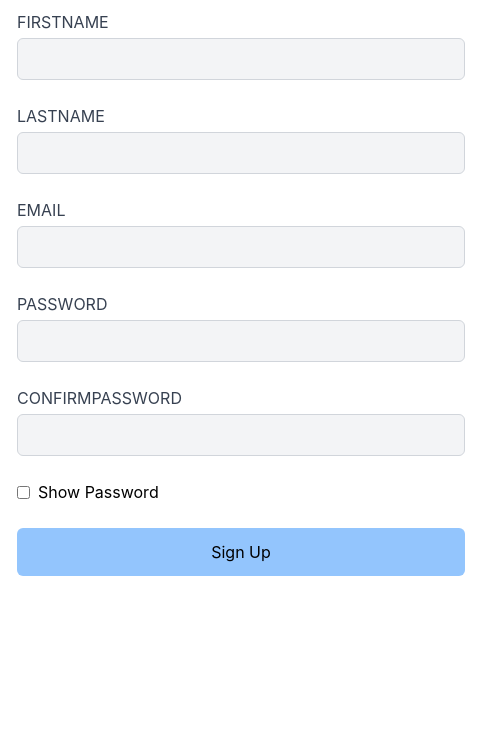
Test: validation error message is shown when form is submitted with confirm password which does not match the password
Type "test1233B" into the password field with test id "password" at (241, 341), box x1=17 y1=320 x2=465 y2=362
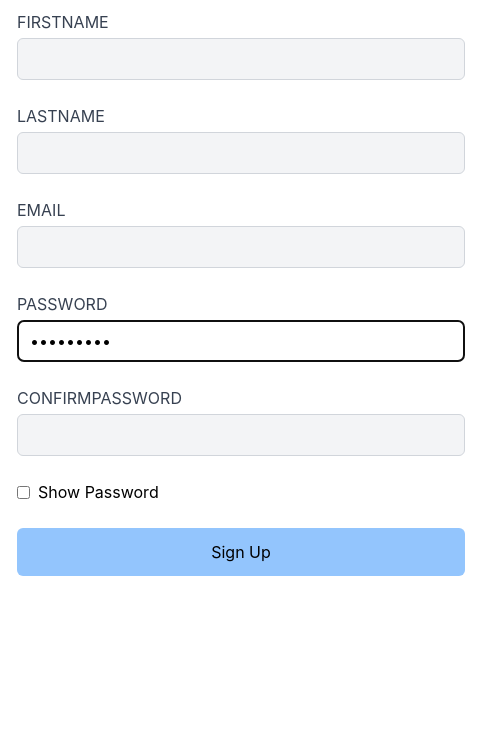
Type "test1233A" into the password field with test id "confirmpassword" at (241, 435), box x1=17 y1=414 x2=465 y2=456
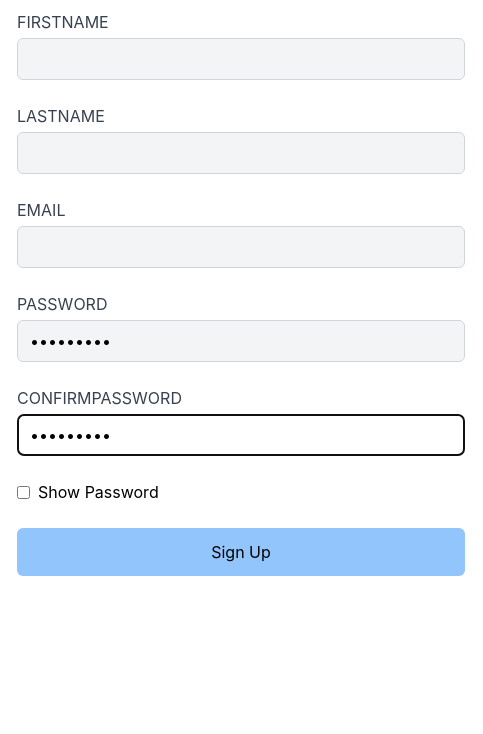
Click the button with test id "signupbutton" at (241, 552), box x1=17 y1=528 x2=465 y2=576
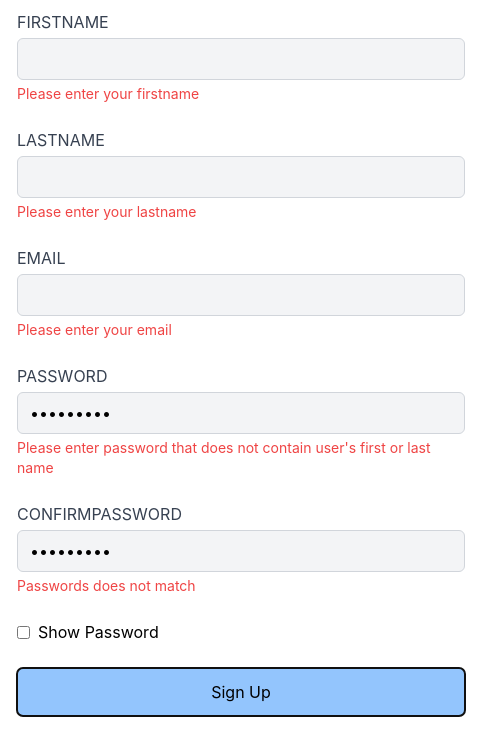
Result: the text "Passwords does not match" is shown at x1=17 y1=577 x2=196 y2=594
